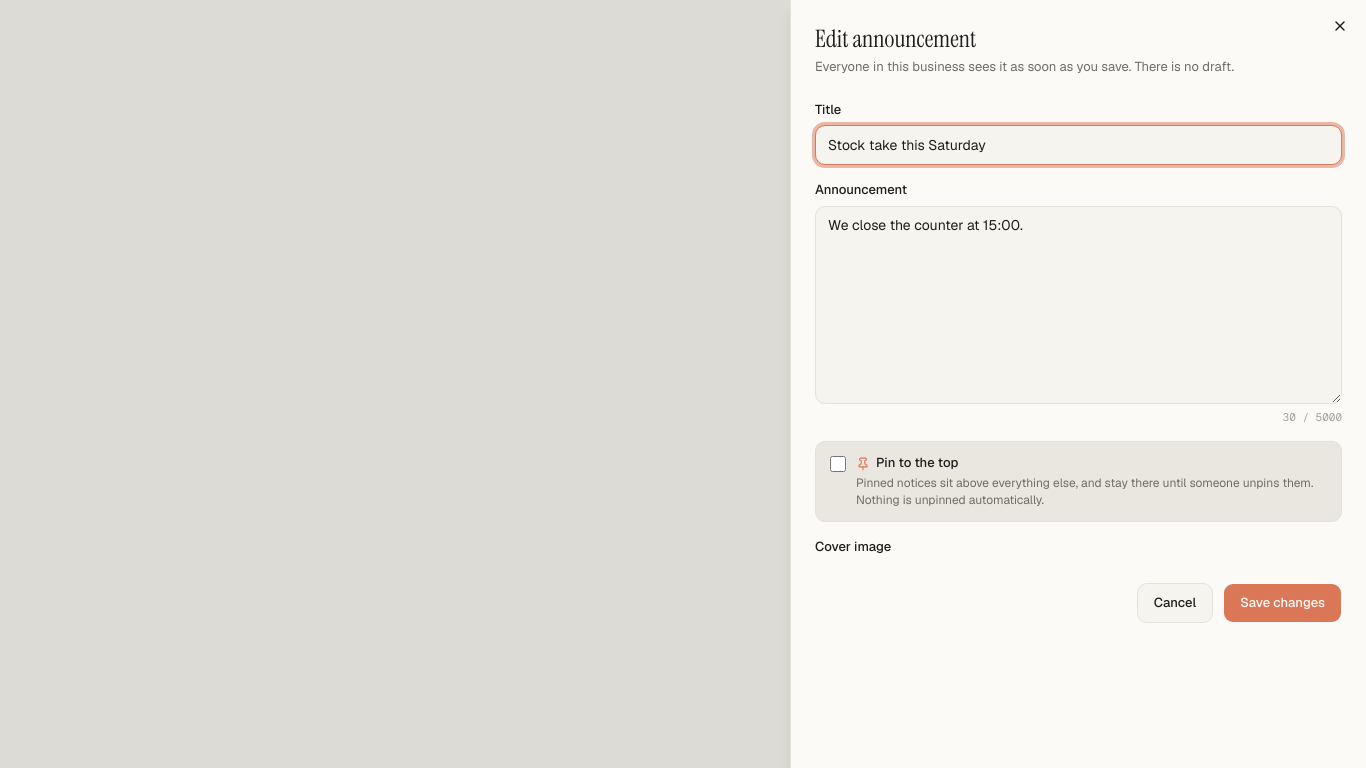
it: AnnouncementFormSheet — refusals › routes the body-level 422 under "_" to the form panel instead of dropping it
Type "!" into the field labelled "Title". click: coordinates (1078, 145)
box: [815, 125, 1342, 165]
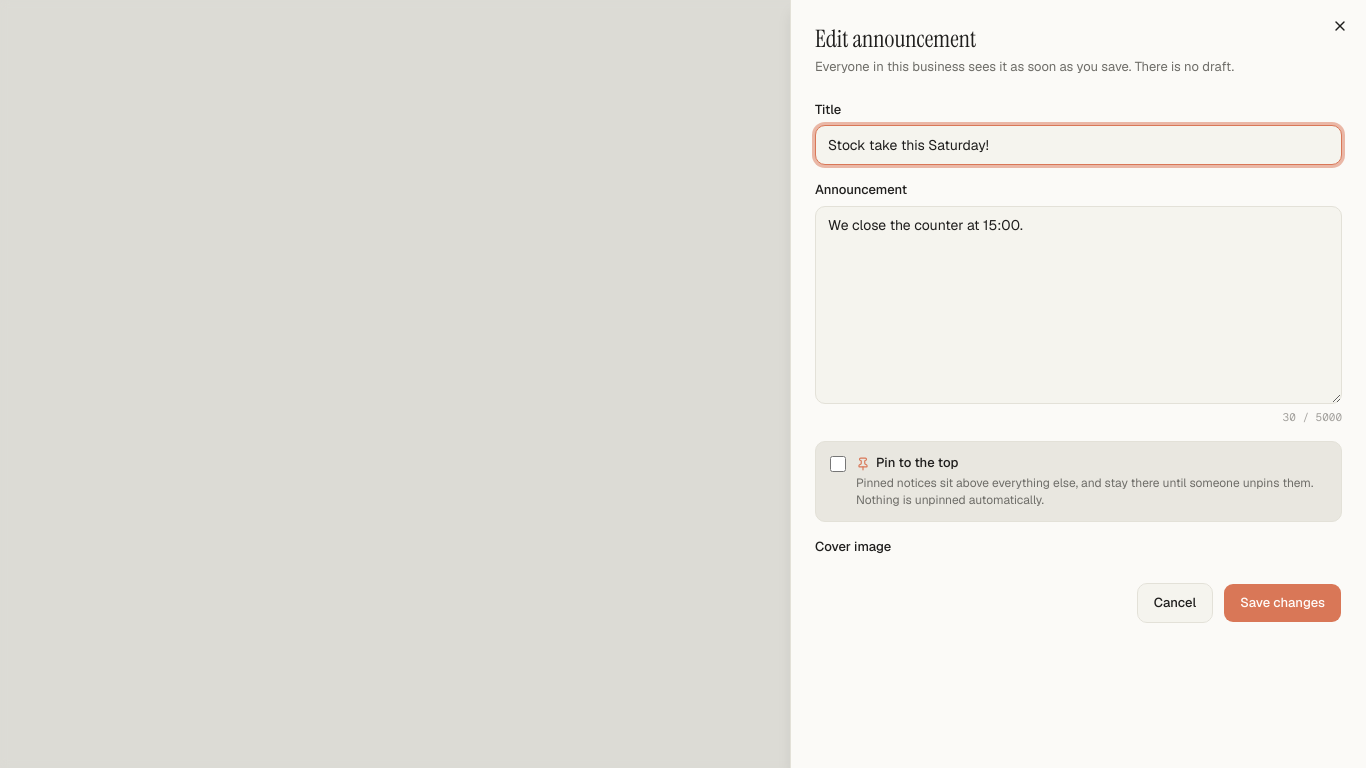
Click the button "Save changes". click: coordinates (1283, 603)
box: [1223, 583, 1342, 623]
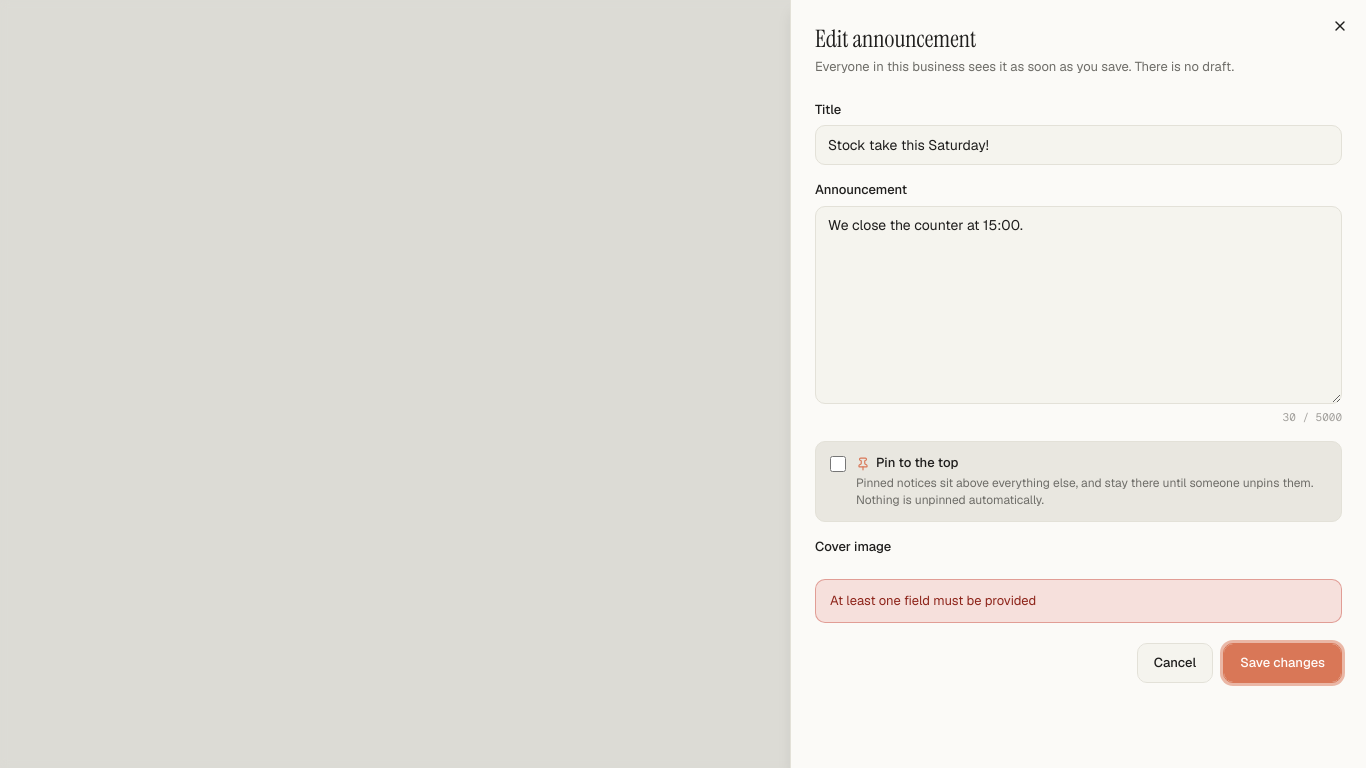
Now the message reads "At least one field must be provided", box [830, 592, 1036, 609]
